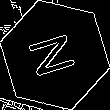N_E: (25, 28, 85, 82)
